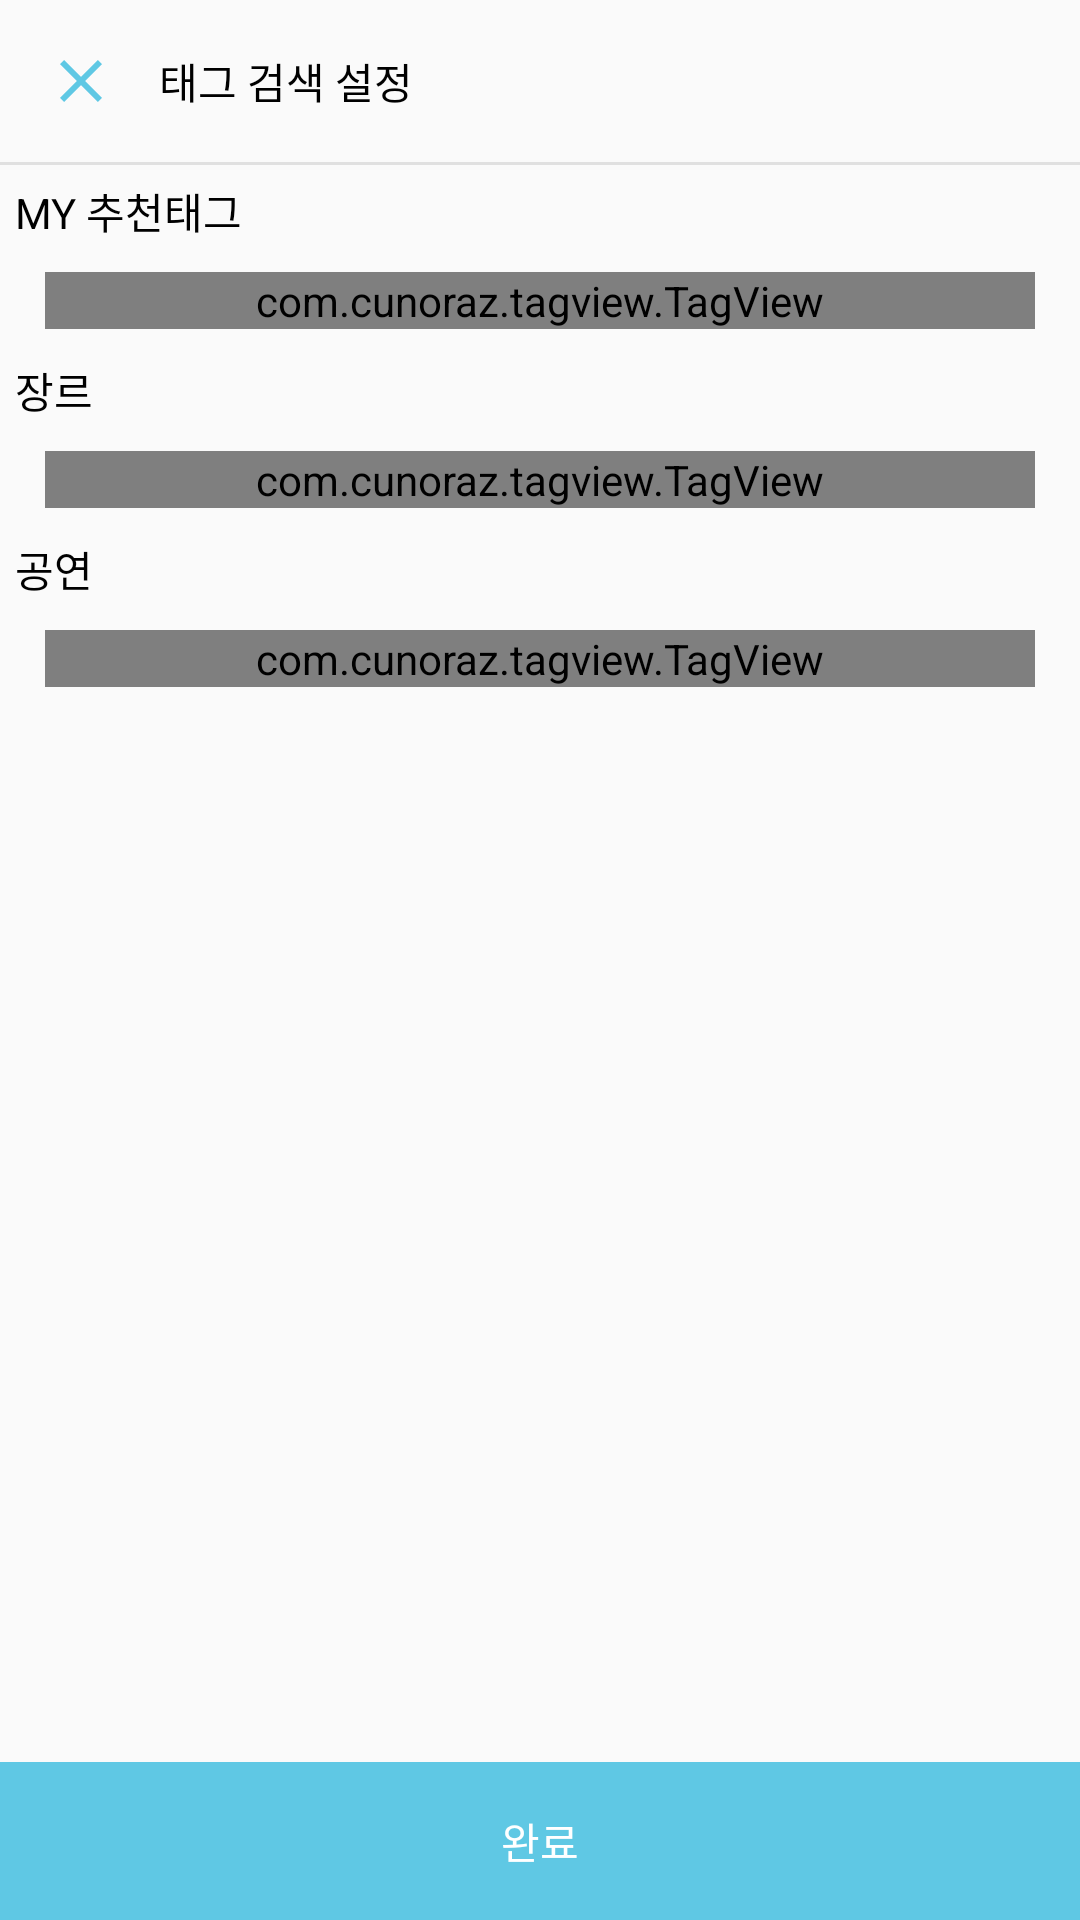

Named icons in this screenshot (1080x1920) and their centers, (x=x, y=y):
close skyblue: (x=81, y=81)
